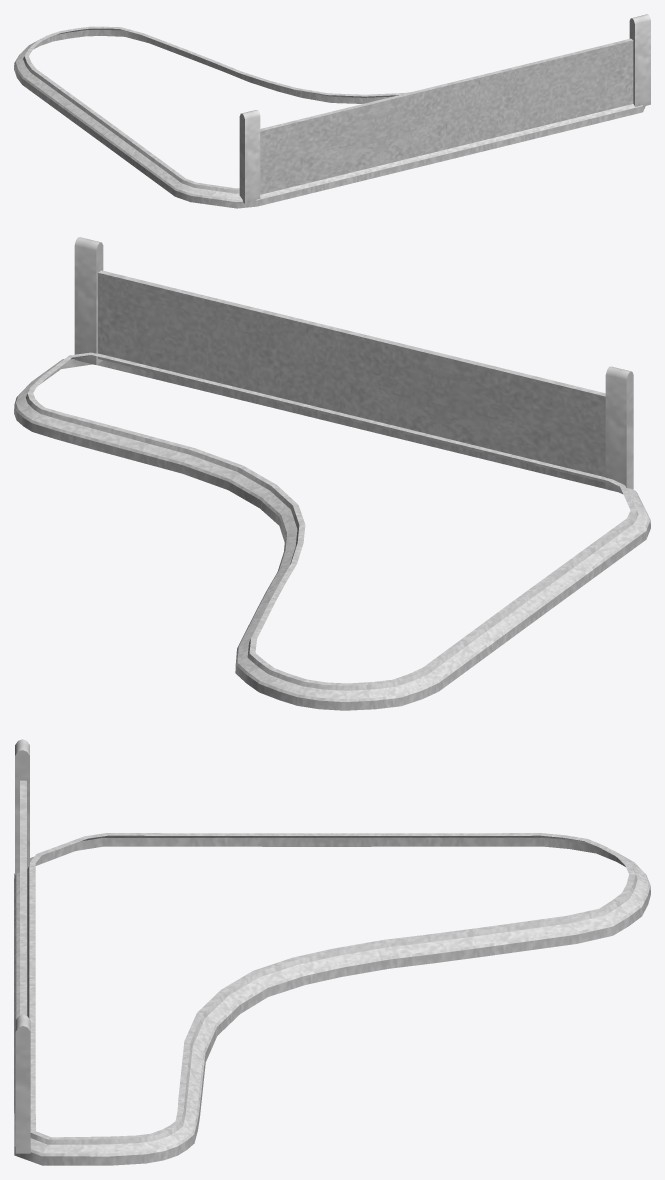
The model's file is pref_sm_garden_new_gardening12_lv3.fbx.
The picture shows the model from 3 angles, top to bottom: view 1: azimuth 30°, elevation 25°; view 2: azimuth 150°, elevation 25°; view 3: azimuth 270°, elevation 25°; orthographic projection. The views are drawn at different scales.
Parts seen in each view (by area): view 1: sm_garden_new_gardening12_lv3; view 2: sm_garden_new_gardening12_lv3; view 3: sm_garden_new_gardening12_lv3.
Part boxes in pixels (x1,y1,x2,y2): sm_garden_new_gardening12_lv3: [14, 14, 650, 208]; sm_garden_new_gardening12_lv3: [14, 237, 650, 710]; sm_garden_new_gardening12_lv3: [14, 739, 650, 1165].
Bounding box in the file's own units: 8.96 × 1.78 × 7.57.
